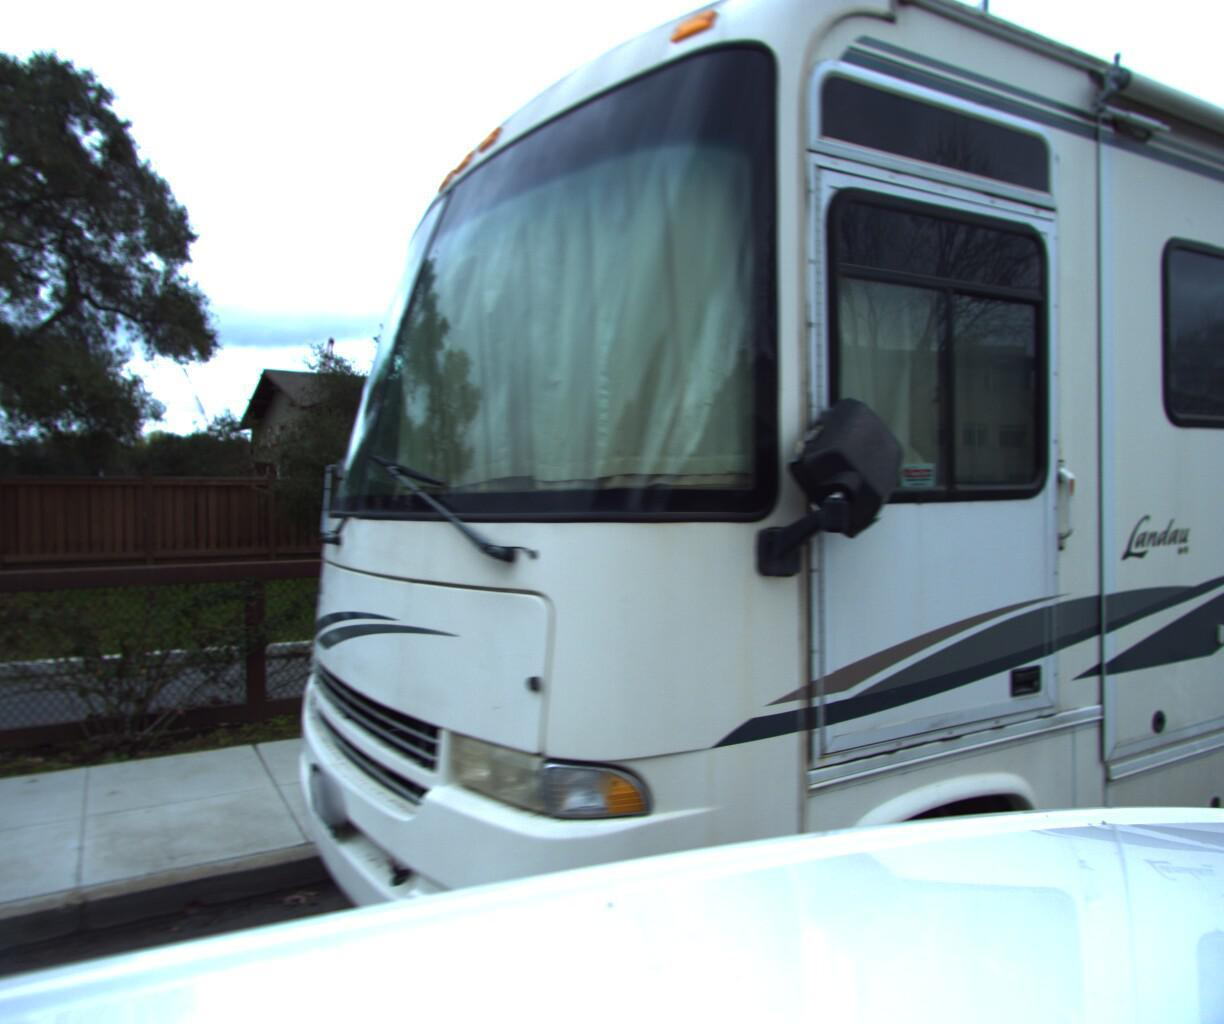other_vehicle: (197, 0, 1224, 1024)
